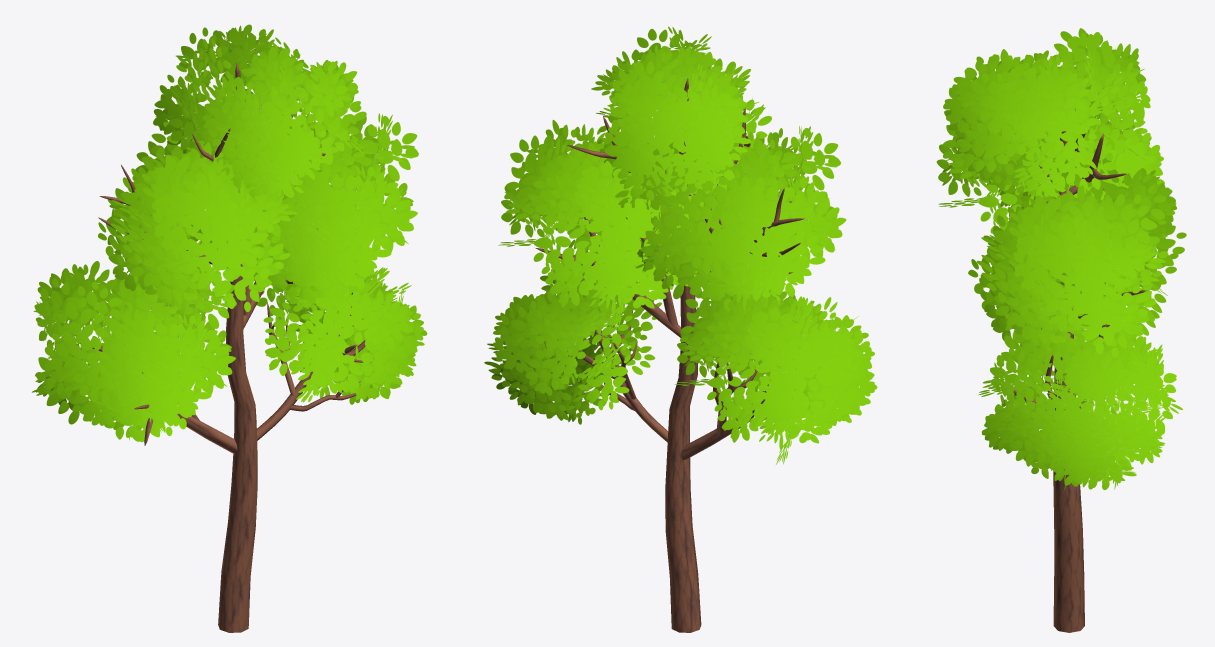
The model's file is acacia_azul.glb.
The picture shows the model from 3 angles, left to right: view 1: azimuth 30°, elevation 25°; view 2: azimuth 150°, elevation 25°; view 3: azimuth 270°, elevation 25°; orthographic projection. The views are drawn at different scales.
Parts seen in each view (by area): view 1: acacia_azul; view 2: acacia_azul; view 3: acacia_azul.
Boxes of the visible parts, x1,y1,x2,y2 form: acacia_azul: [31, 24, 427, 632]; acacia_azul: [484, 26, 877, 632]; acacia_azul: [936, 28, 1186, 632].
Size of the model in its own units: 9.73 by 14 by 5.95.
2 materials, 2 textured.
